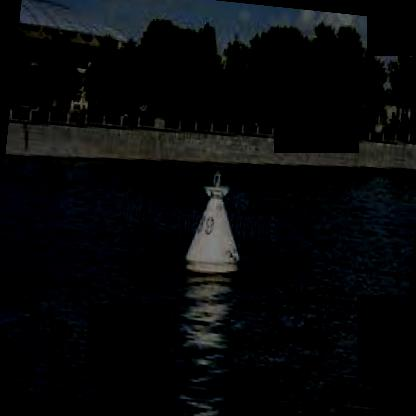Buoy: (178, 180, 251, 286)
